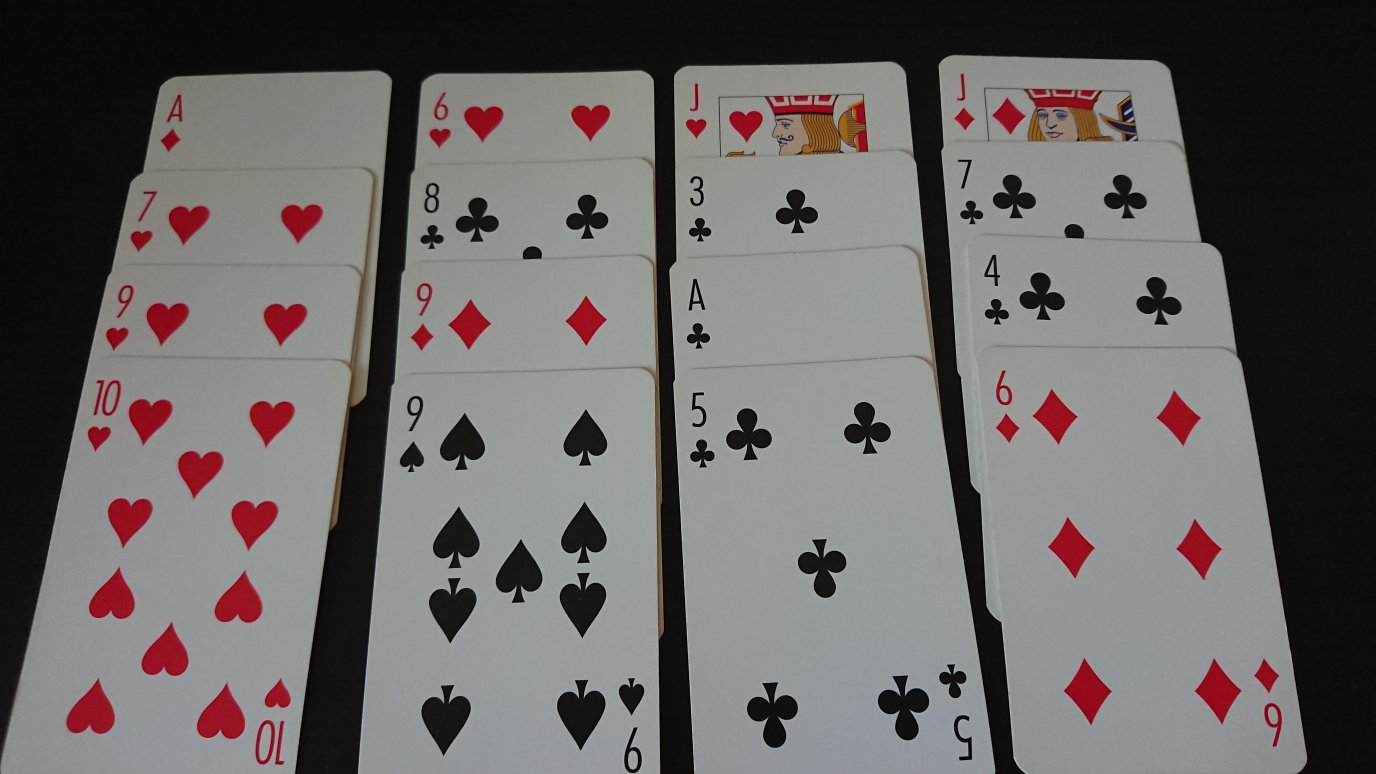10H: (82, 371, 125, 456)
3C: (680, 170, 719, 248)
4C: (976, 248, 1013, 332)
5C: (681, 385, 719, 473)
6D: (989, 361, 1028, 448)
6H: (423, 86, 457, 154)
7C: (952, 153, 988, 229)
7H: (125, 183, 161, 257)
8C: (413, 176, 452, 256)
9D: (404, 277, 440, 355)
9H: (99, 274, 141, 355)
9S: (392, 391, 430, 477)
AC: (682, 270, 717, 359)
AD: (155, 85, 193, 162)
JD: (949, 66, 981, 133)
JH: (681, 74, 712, 147)
